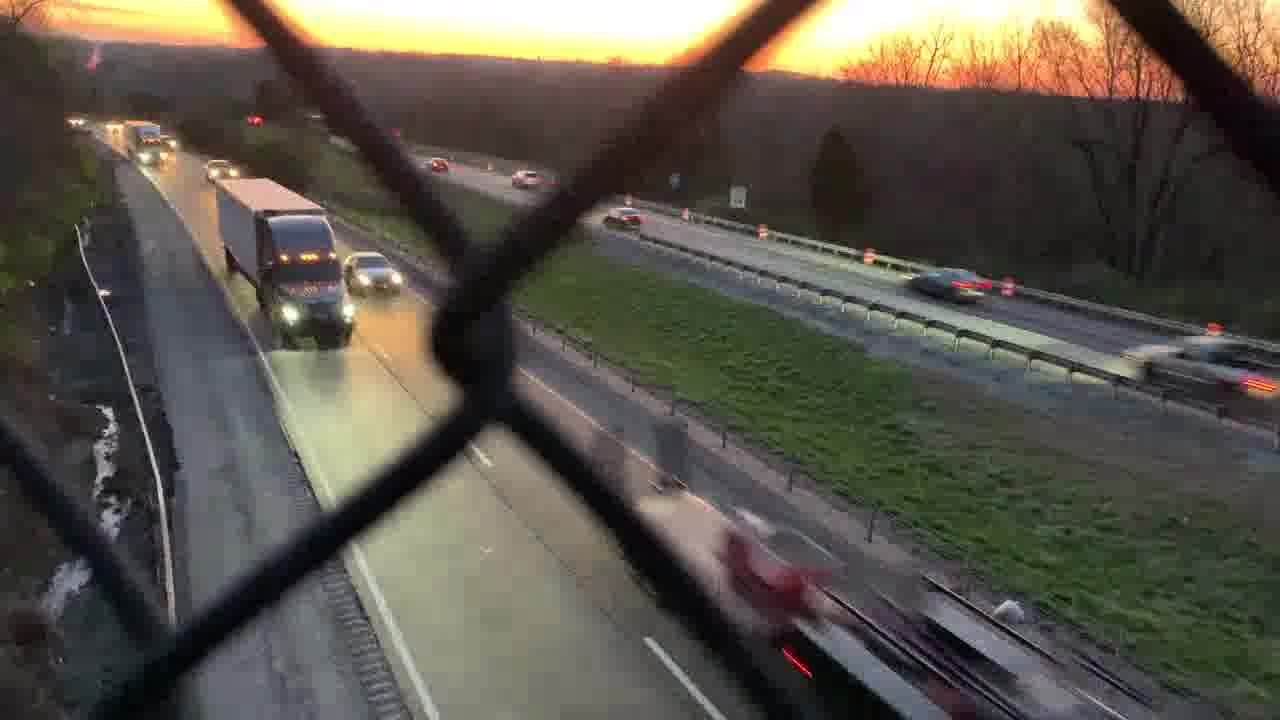heavyTruck: (214, 172, 352, 347)
smallCar: (346, 248, 399, 303), (906, 268, 987, 303)
